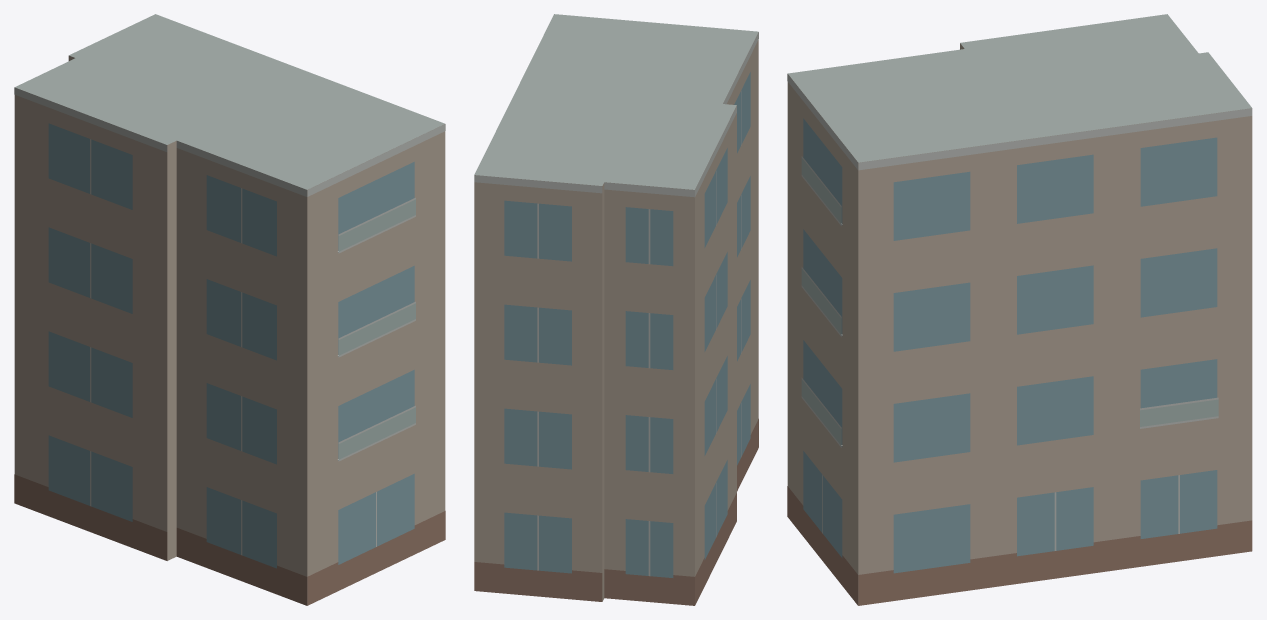
File: survey-upis-32800148.glb
The picture shows the model from 3 angles, left to right: view 1: azimuth 30°, elevation 25°; view 2: azimuth 150°, elevation 25°; view 3: azimuth 270°, elevation 25°; orthographic projection. The views are drawn at different scales.
Parts seen in each view (by area): view 1: survey-upis-32800148.tmp; view 2: survey-upis-32800148.tmp; view 3: survey-upis-32800148.tmp.
Boxes of the visible parts, left/top/right/bottom form: survey-upis-32800148.tmp: left=14, top=14, right=445, bottom=605; survey-upis-32800148.tmp: left=474, top=14, right=758, bottom=605; survey-upis-32800148.tmp: left=787, top=14, right=1252, bottom=605.
Size of the model in its own units: 10.04 by 13.95 by 13.27.
